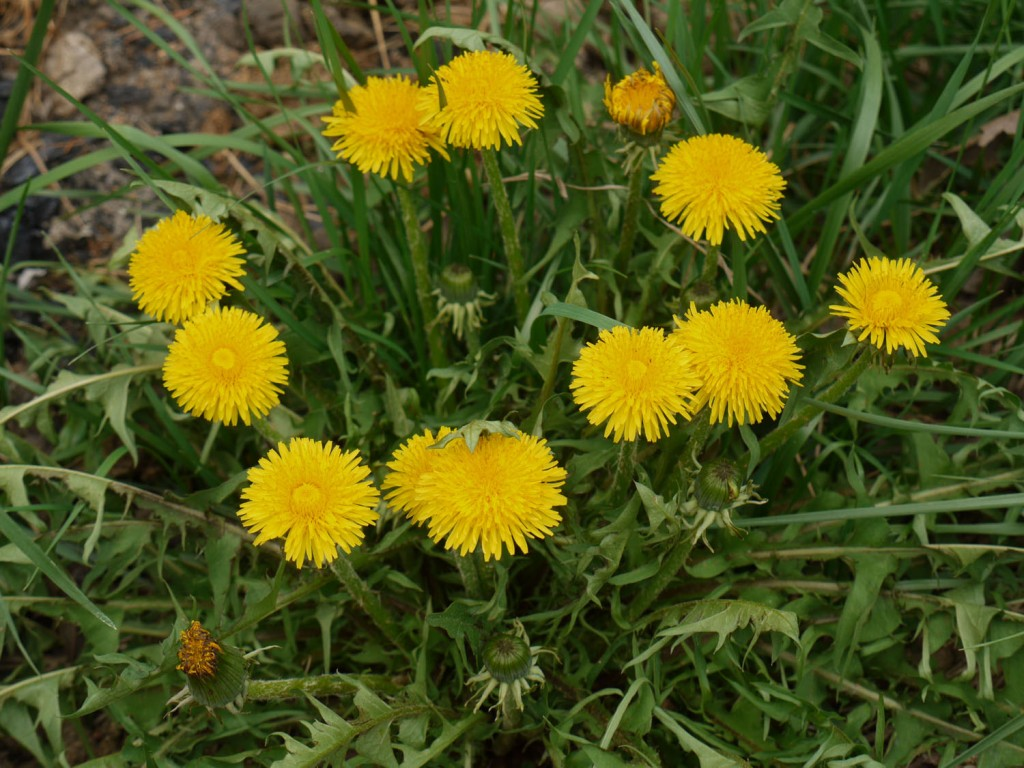dandelion: (386, 423, 571, 559), (234, 434, 380, 574), (670, 299, 803, 427), (158, 306, 291, 427), (570, 323, 697, 446), (652, 131, 789, 245), (319, 70, 447, 178), (830, 252, 950, 364), (127, 207, 247, 318), (420, 51, 545, 154)
